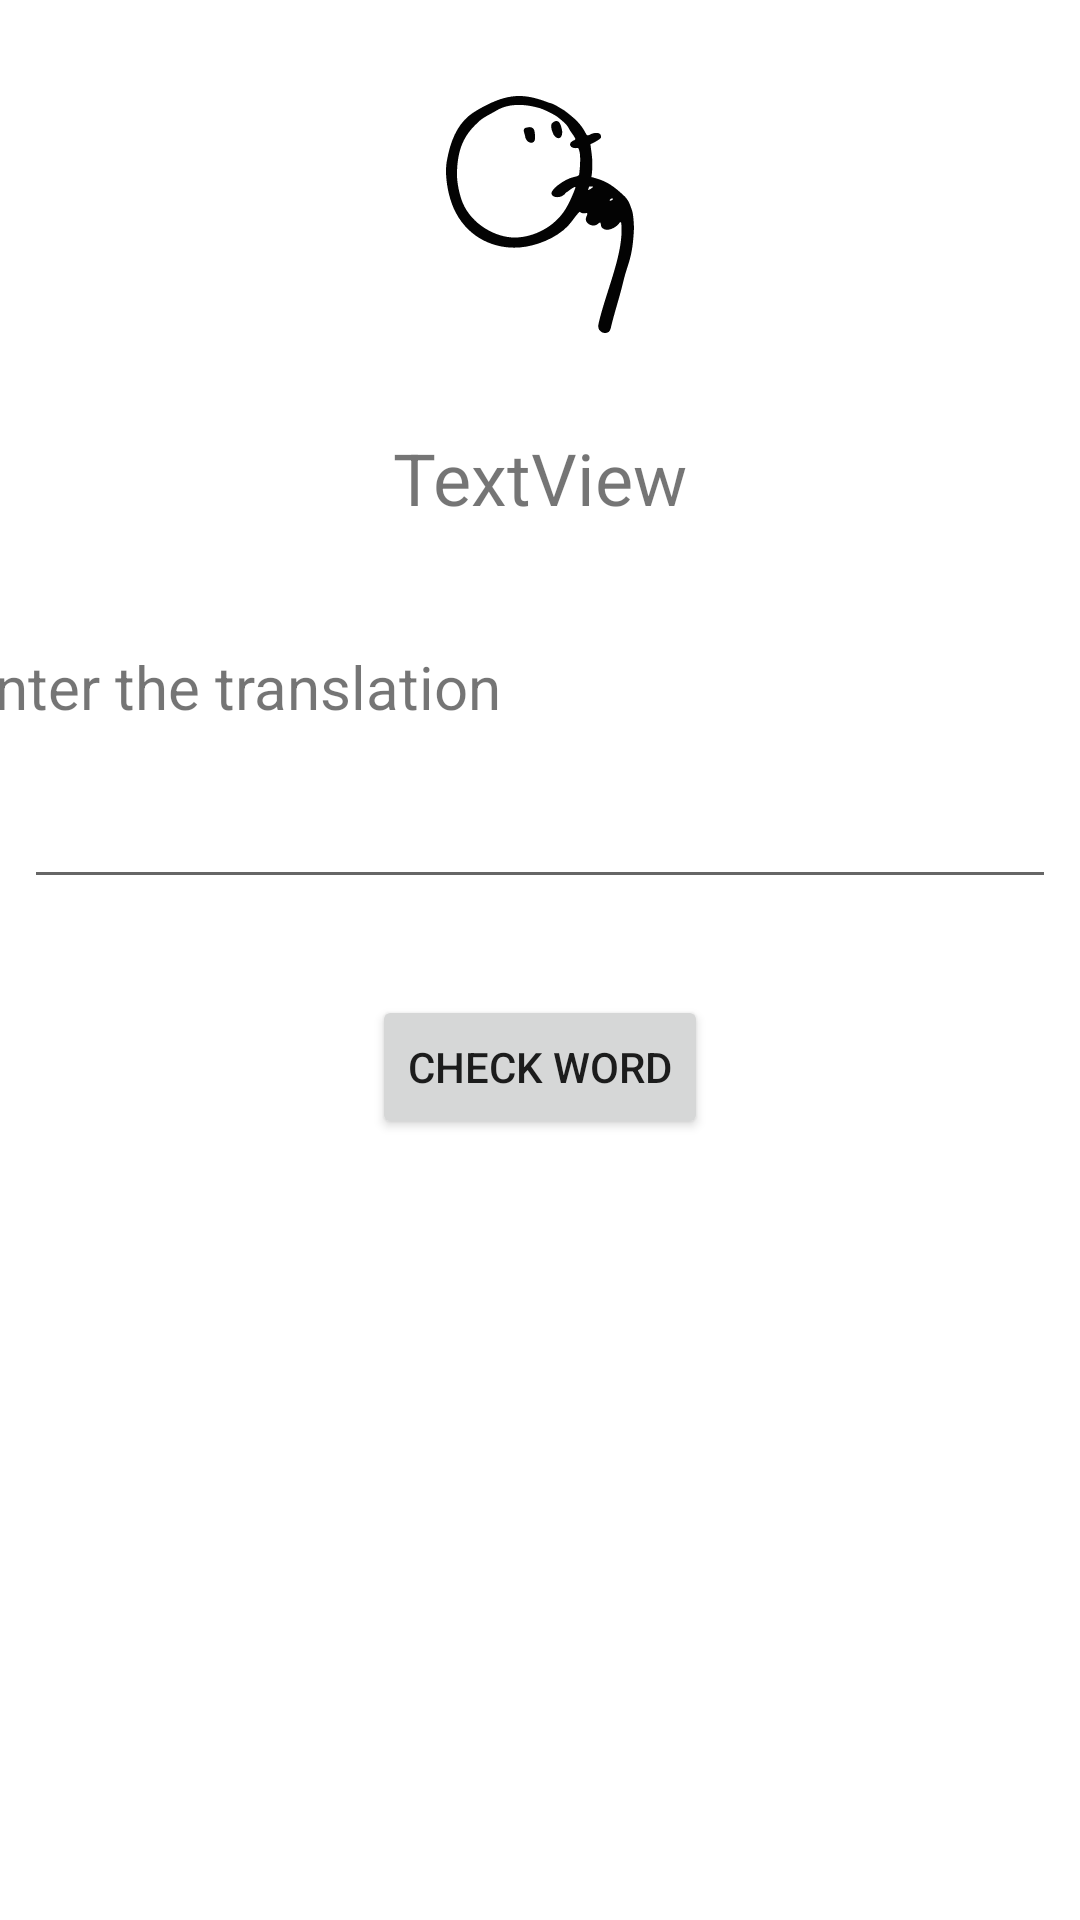

Where to tap for icons on this 1080px×1920px app screen, as (x,y):
face thinking person: (540,214)
